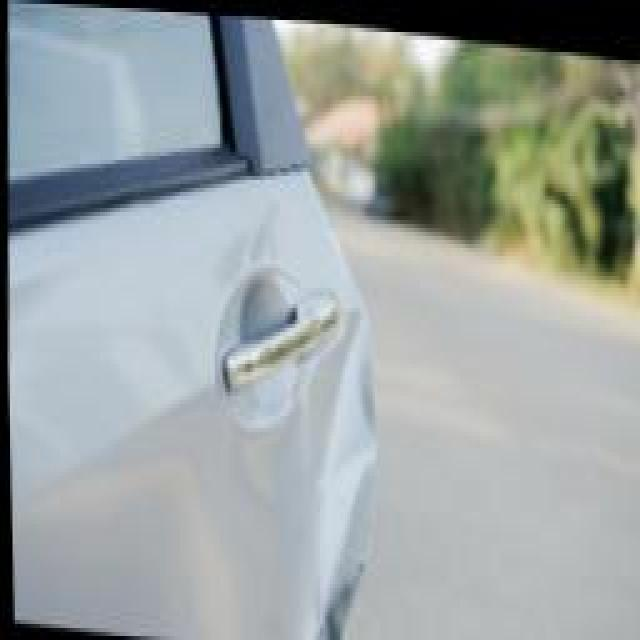Door: (232, 188, 388, 639)
